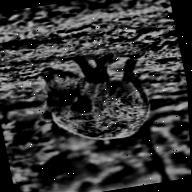boar: (27, 51, 164, 153)
